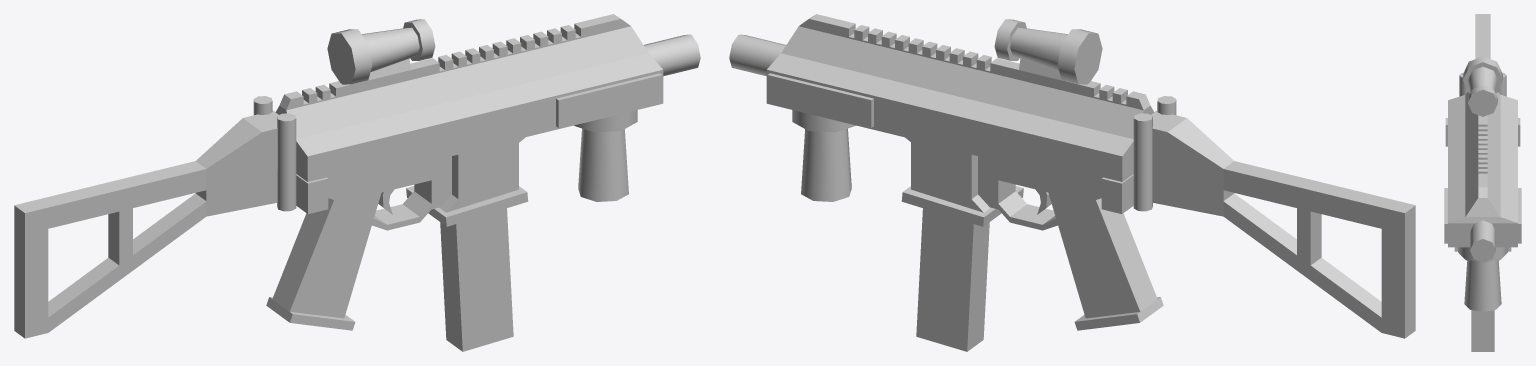
Rendered from APC-Carbine.fbx.
3 renders of one model, left to right at view 1: azimuth 30°, elevation 25°; view 2: azimuth 150°, elevation 25°; view 3: azimuth 270°, elevation 25°, orthographic. The views are drawn at different scales.
Visible parts, largest first — view 1: APCCarbine; view 2: APCCarbine; view 3: APCCarbine.
Part boxes in pixels (box(x1,y1,x2,y2)): APCCarbine: box(14, 14, 700, 351); APCCarbine: box(729, 14, 1415, 351); APCCarbine: box(1444, 14, 1521, 351).
Size of the model in its own units: 148 by 71.66 by 20.77.
